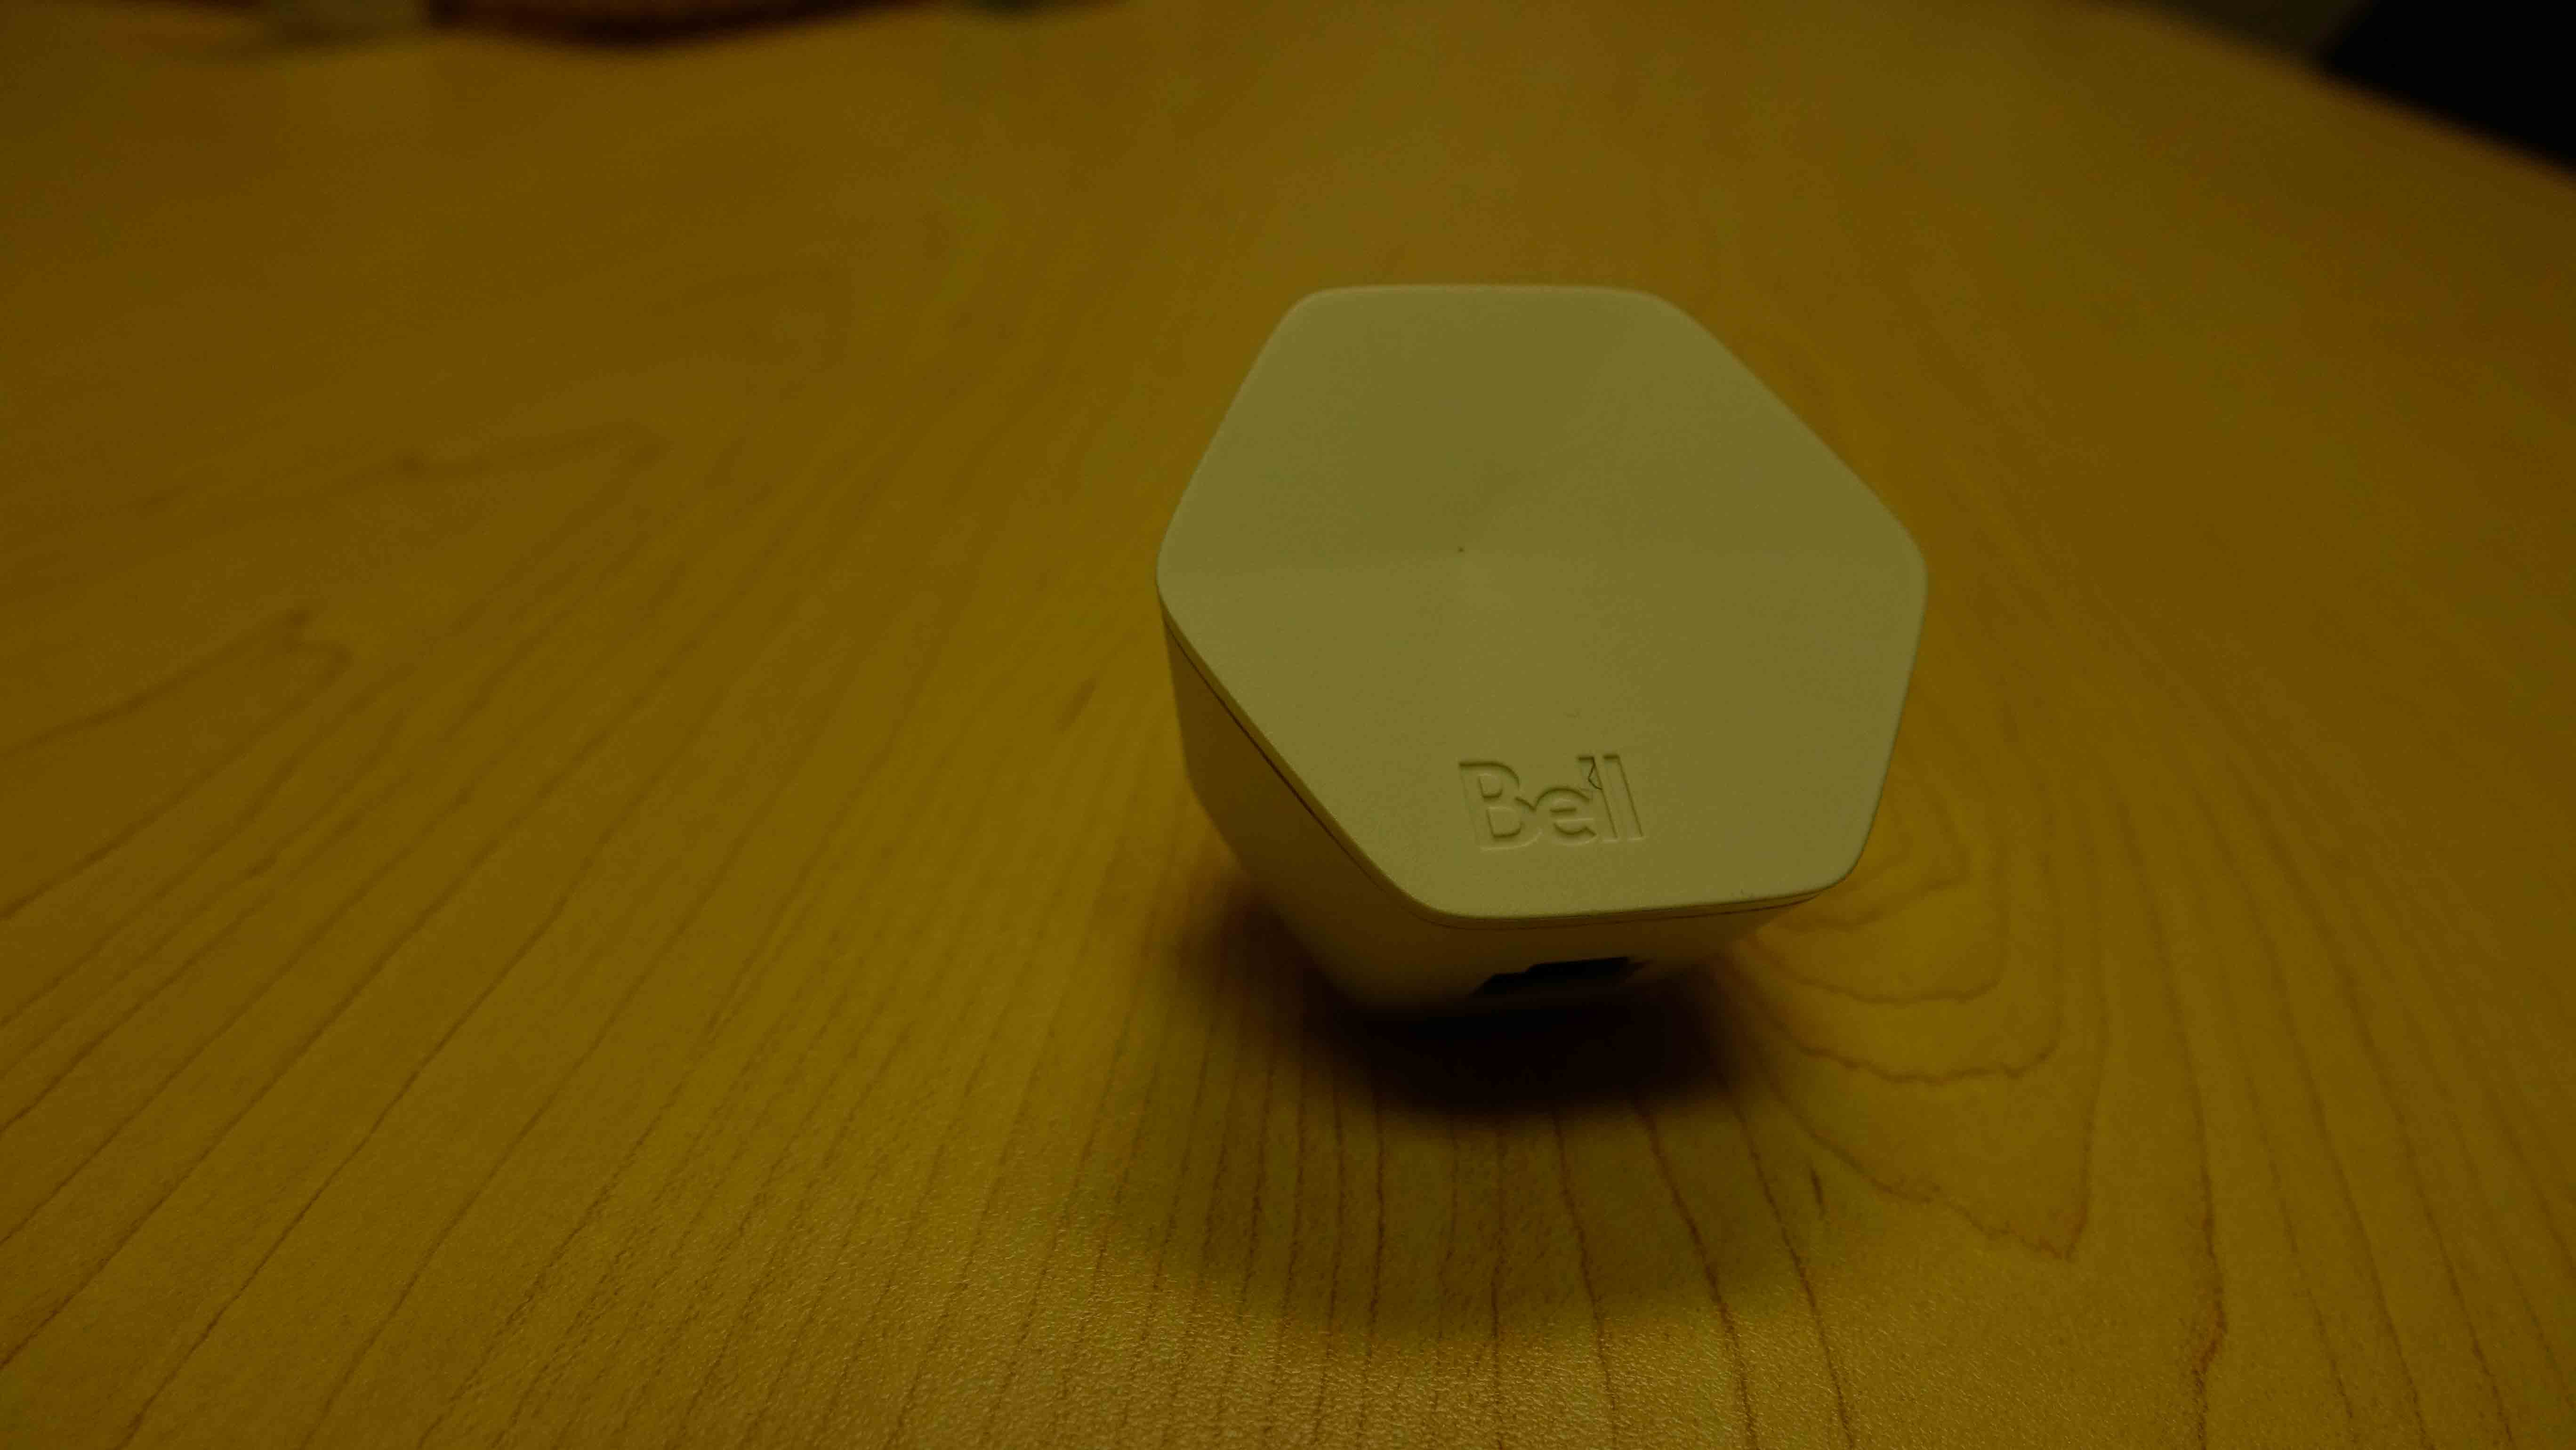pod: (1146, 272, 1946, 1042)
